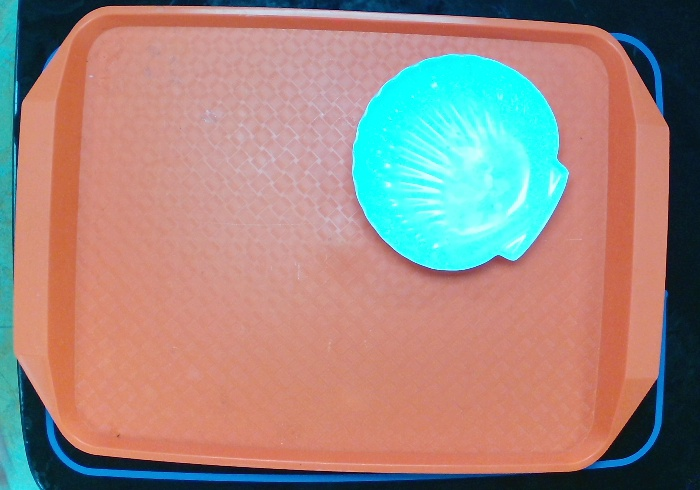RJxy-Bei_Ke_Wan: (343, 43, 576, 279)
